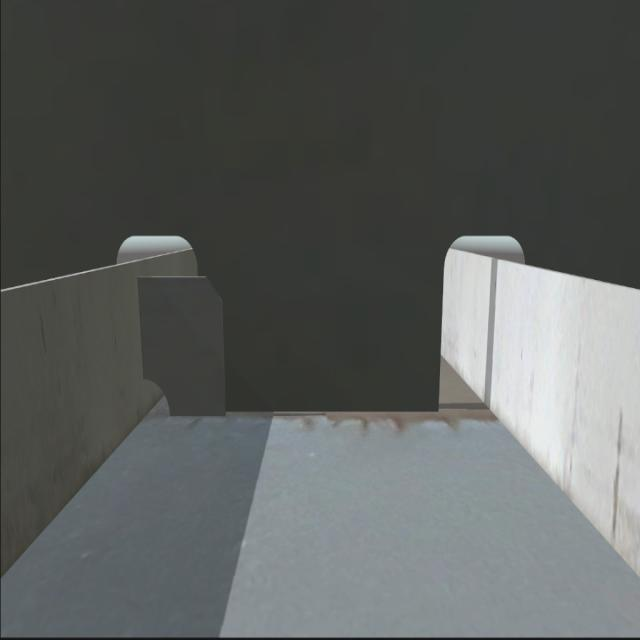fillet_hole: (146, 379, 171, 417)
fillet_yong_jeop_jang: (166, 403, 444, 418)
longi_yong_jeop_jang: (134, 273, 150, 390)
plate_CP03: (138, 279, 230, 418)
